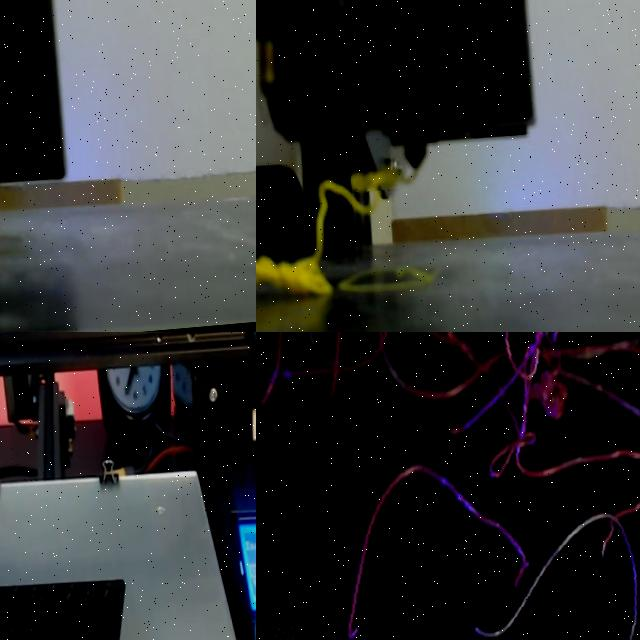spaghetti: (256, 332, 640, 640), (256, 180, 372, 294), (350, 167, 400, 192)
